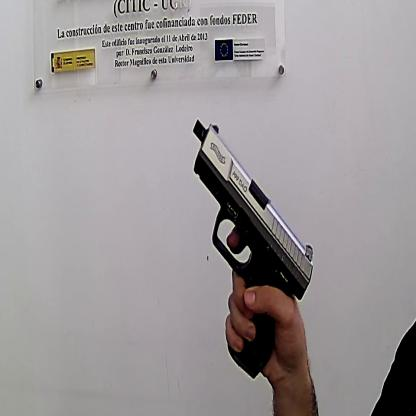gun: (191, 116, 314, 380)
